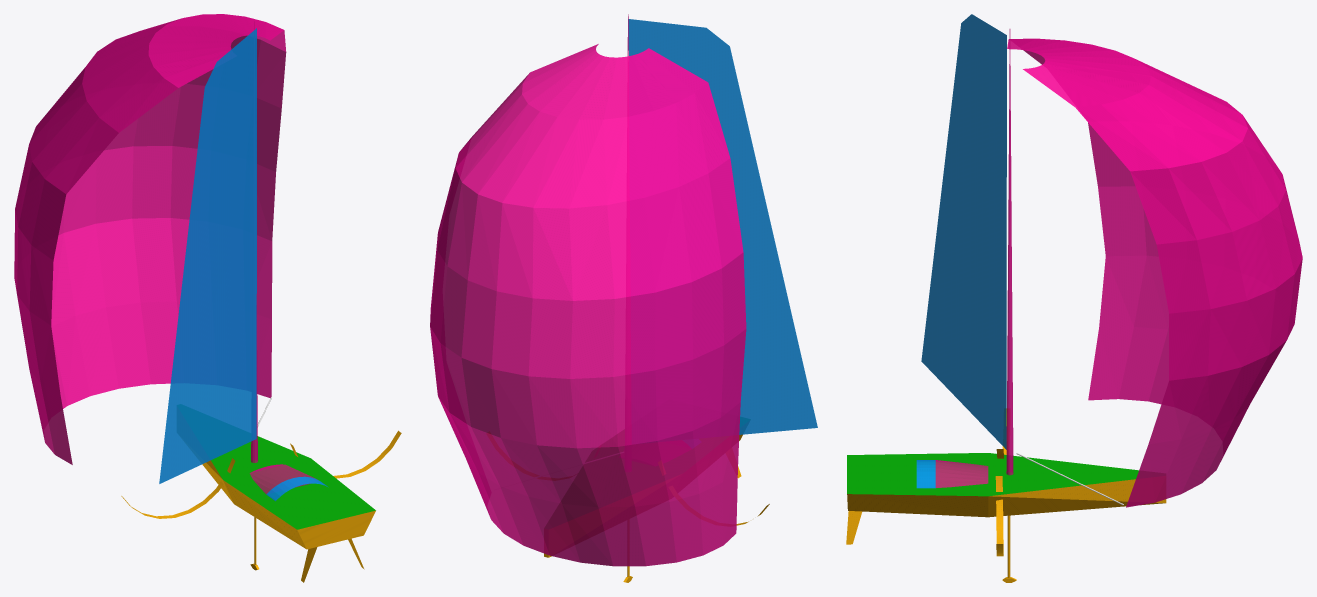
Rendered from IMOCA_SPI_TRIBORD.dae.
The picture shows the model from 3 angles, left to right: view 1: azimuth 30°, elevation 25°; view 2: azimuth 150°, elevation 25°; view 3: azimuth 270°, elevation 25°; orthographic projection. The views are drawn at different scales.
Parts seen in each view (by area): view 1: SketchUp (×6); view 2: SketchUp (×2); view 3: SketchUp (×6).
Boxes of the visible parts, <box> form: SketchUp (×6): <box>14,14,375,549</box>; SketchUp (×2): <box>430,19,817,566</box>; SketchUp (×6): <box>847,14,1302,517</box>.
Bounding box in the file's own units: 77278 × 101354 × 135626.
